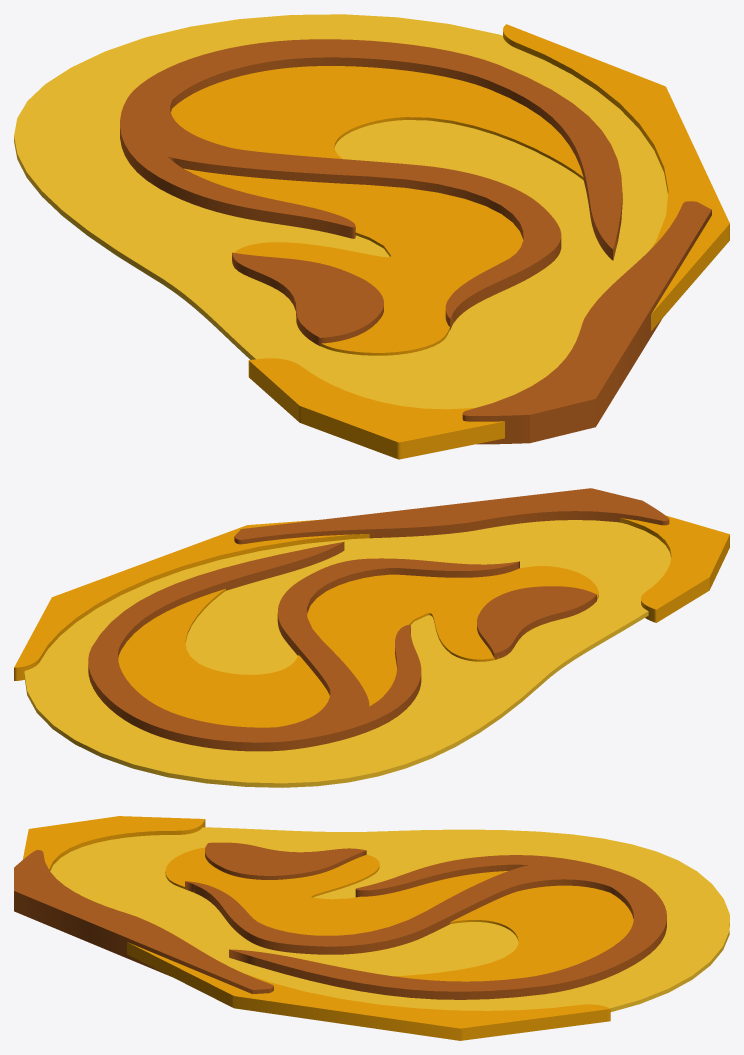
File: emoji_u1f442.glb
The picture shows the model from 3 angles, top to bottom: view 1: azimuth 30°, elevation 25°; view 2: azimuth 150°, elevation 25°; view 3: azimuth 270°, elevation 25°; orthographic projection. The views are drawn at different scales.
Parts seen in each view (by area): view 1: emoji_u1f442; view 2: emoji_u1f442; view 3: emoji_u1f442.
Boxes of the visible parts, bbox=[...] form: emoji_u1f442: bbox=[14, 14, 729, 459]; emoji_u1f442: bbox=[14, 488, 729, 787]; emoji_u1f442: bbox=[14, 816, 729, 1040].
Size of the model in its own units: 0.0222 by 0.001 by 0.0316.
